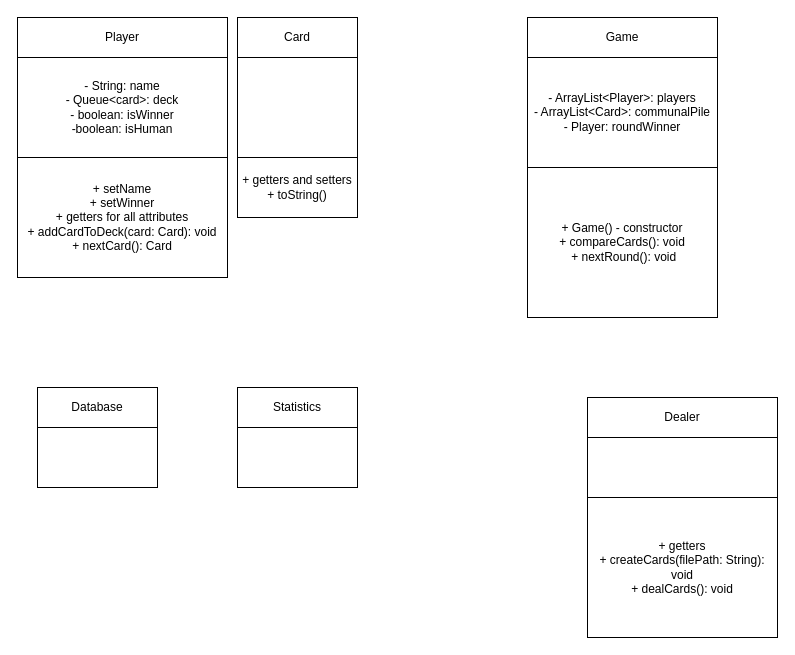
Image size: 795x655. Some labels were removed from this diagram. The centre of each missing label's shape, as x and y in pixels:
- Game: game - ArrayList<Card>: deck: (x=682, y=467)
- String: name -array int: description: (x=297, y=107)
